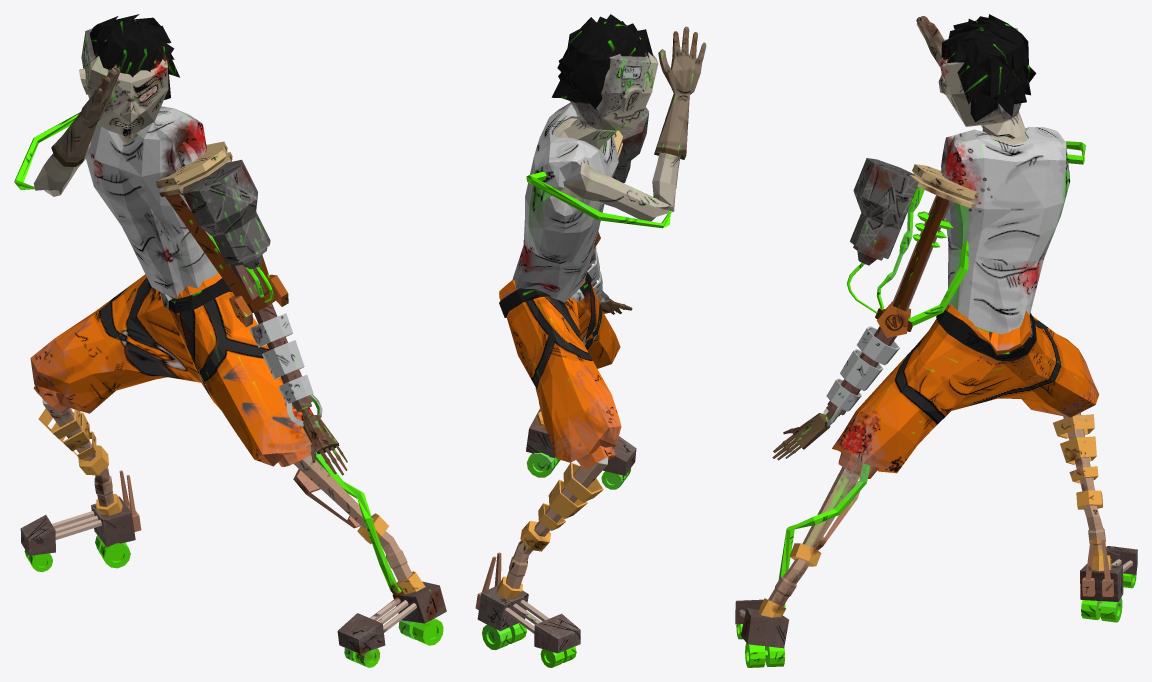
The model's file is CyborgFINALAnimation_000078.obj.
3 views of the same model, side by side, from view 1: azimuth 30°, elevation 25°; view 2: azimuth 150°, elevation 25°; view 3: azimuth 270°, elevation 25° (orthographic). The views are drawn at different scales.
Parts seen in each view (by area): view 1: CyborgMesh_Cube.002; view 2: CyborgMesh_Cube.002; view 3: CyborgMesh_Cube.002.
Part boxes in pixels (left/top/right/bottom): CyborgMesh_Cube.002: left=14, top=14, right=446, bottom=667; CyborgMesh_Cube.002: left=475, top=14, right=706, bottom=667; CyborgMesh_Cube.002: left=735, top=14, right=1137, bottom=667.
Bounding box in the file's own units: 4.22 × 8.63 × 5.45.
